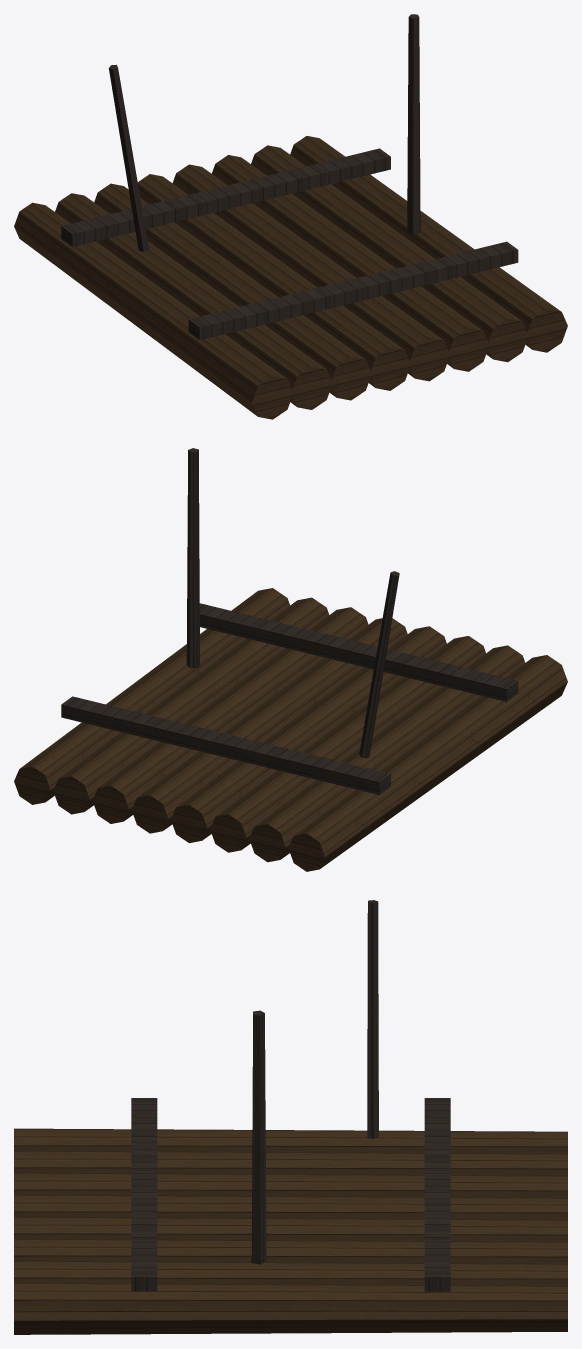
The model's file is raft_01.glb.
3 renders of one model, top to bottom at view 1: azimuth 30°, elevation 25°; view 2: azimuth 150°, elevation 25°; view 3: azimuth 270°, elevation 25°, orthographic. The views are drawn at different scales.
Visible parts, largest first — view 1: raft_01; view 2: raft_01; view 3: raft_01.
Part boxes in pixels (left/top/right/bottom): raft_01: left=14, top=14, right=567, bottom=419; raft_01: left=14, top=448, right=567, bottom=871; raft_01: left=14, top=900, right=567, bottom=1334.
Size of the model in its own units: 2.6 by 2.07 by 3.4.
2 materials, 2 textured.
